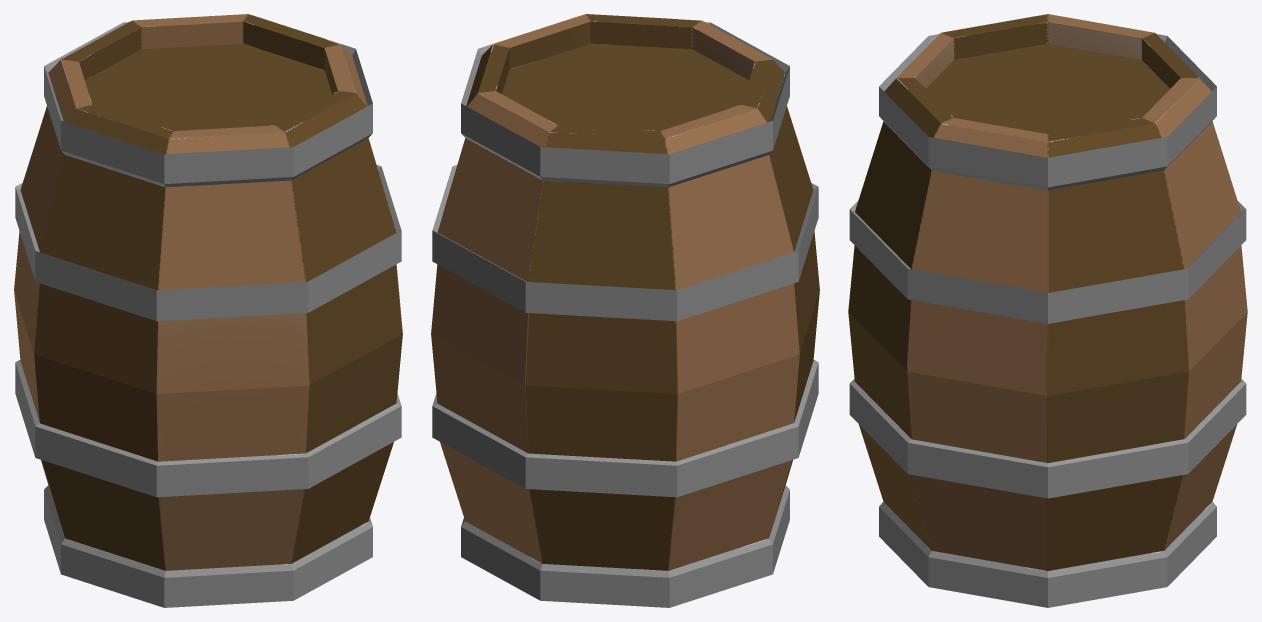
File: barril_de_madeira.obj
3 views of the same model, side by side, from view 1: azimuth 30°, elevation 25°; view 2: azimuth 150°, elevation 25°; view 3: azimuth 270°, elevation 25° (orthographic).
Parts seen in each view (by area): view 1: Cylinder; view 2: Cylinder; view 3: Cylinder.
Part boxes in pixels (x1=…): Cylinder: x1=14, y1=14, x2=402, y2=607; Cylinder: x1=431, y1=14, x2=819, y2=607; Cylinder: x1=848, y1=14, x2=1247, y2=607.
Bounding box in the file's own units: 2.33 × 2.99 × 2.33.
Materials: 2 (2 with a texture image).
